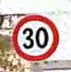limite 30: (9, 12, 59, 62)
